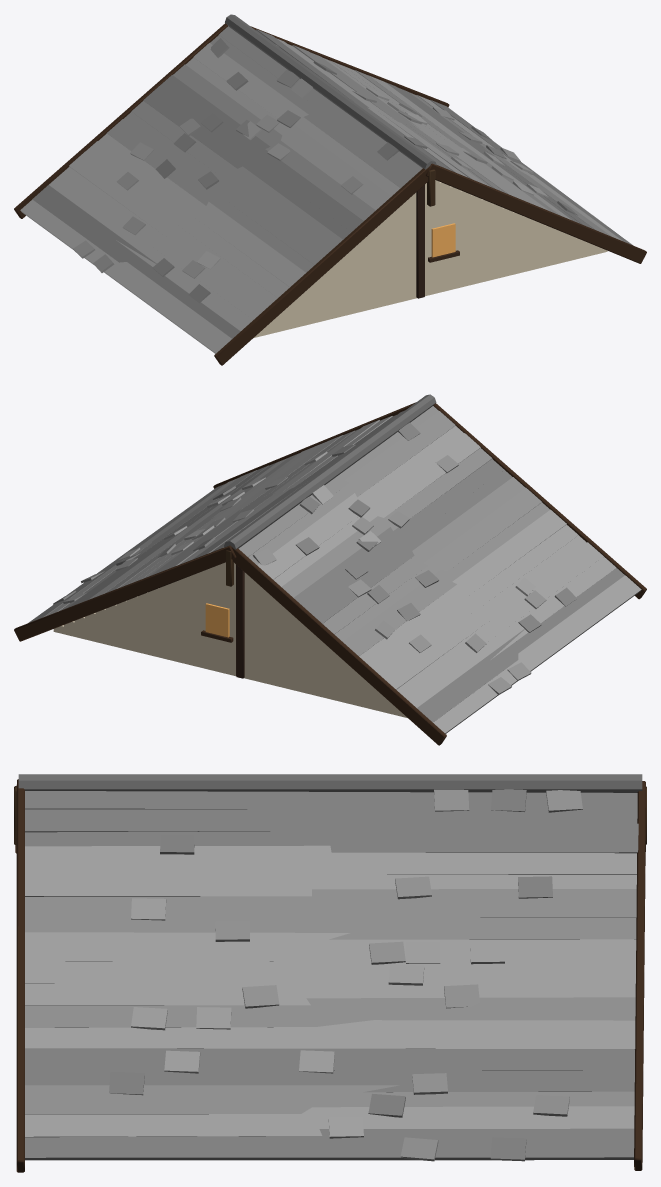
The model's file is roof_gable_tiles.glb.
3 views of the same model, one above another, from view 1: azimuth 30°, elevation 25°; view 2: azimuth 150°, elevation 25°; view 3: azimuth 270°, elevation 25° (orthographic). The views are drawn at different scales.
Visible parts, largest first — view 1: roof_gable_tiles; view 2: roof_gable_tiles; view 3: roof_gable_tiles.
Boxes of the visible parts, x1,y1,x2,y2 form: roof_gable_tiles: [14, 14, 646, 365]; roof_gable_tiles: [14, 394, 646, 745]; roof_gable_tiles: [14, 774, 646, 1172].
Bounding box in the file's own units: 11.34 × 3.85 × 9.24.
